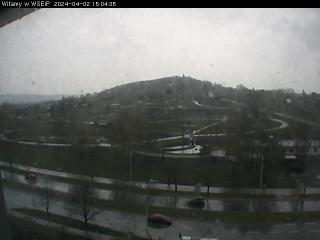car: (147, 213, 173, 227), (185, 195, 205, 207), (23, 171, 37, 181)
